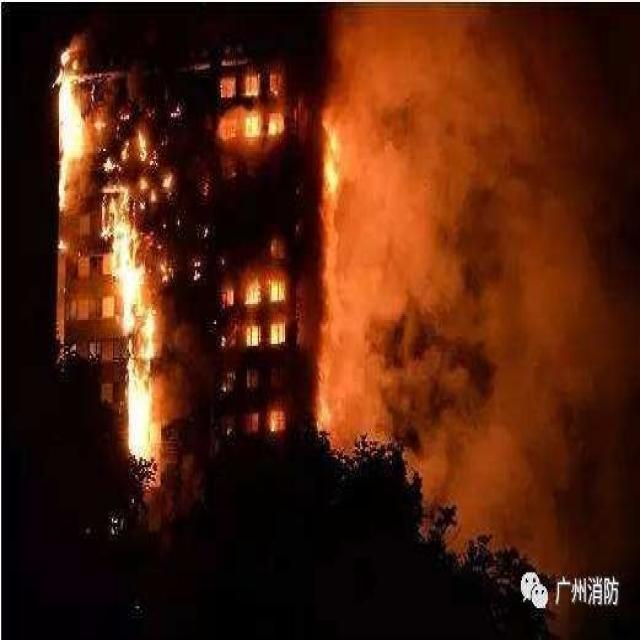Fire: (54, 36, 182, 472), (220, 274, 288, 348), (215, 70, 284, 142), (323, 123, 340, 195), (269, 409, 285, 434), (190, 255, 202, 282)
Smoke: (345, 1, 640, 566)
